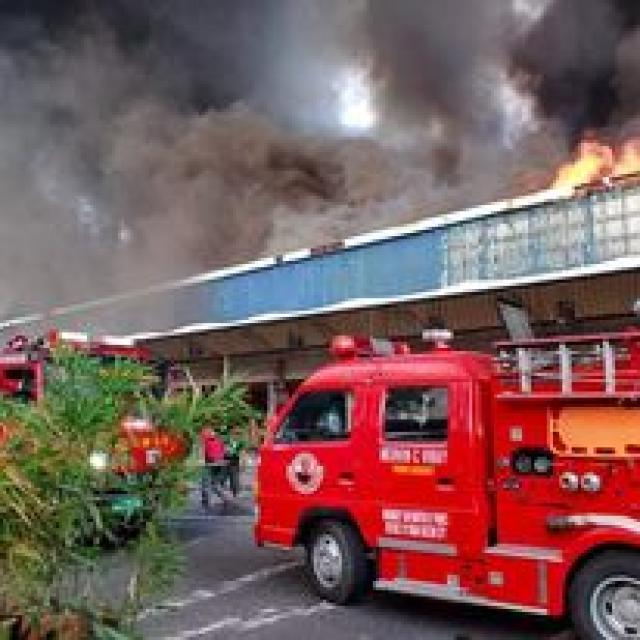Fire: (553, 137, 640, 177)
Smoke: (0, 0, 640, 130), (4, 133, 550, 191), (0, 193, 226, 269)
